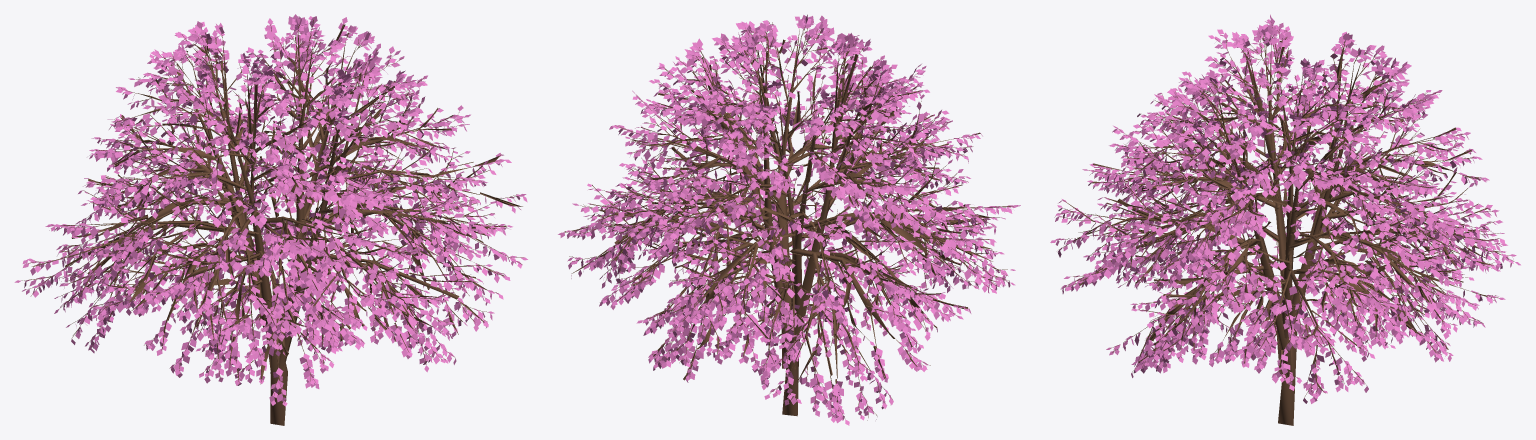
File: new cherry tree.fbx
The picture shows the model from 3 angles, left to right: view 1: azimuth 30°, elevation 25°; view 2: azimuth 150°, elevation 25°; view 3: azimuth 270°, elevation 25°; orthographic projection. The views are drawn at different scales.
Parts seen in each view (by area): view 1: Tree 1; view 2: Tree 1; view 3: Tree 1.
Part boxes in pixels (x1,y1,x2,y2): Tree 1: (14,14,527,425); Tree 1: (558,14,1020,425); Tree 1: (1050,14,1520,425).
Size of the model in its own units: 646 by 553 by 625.
